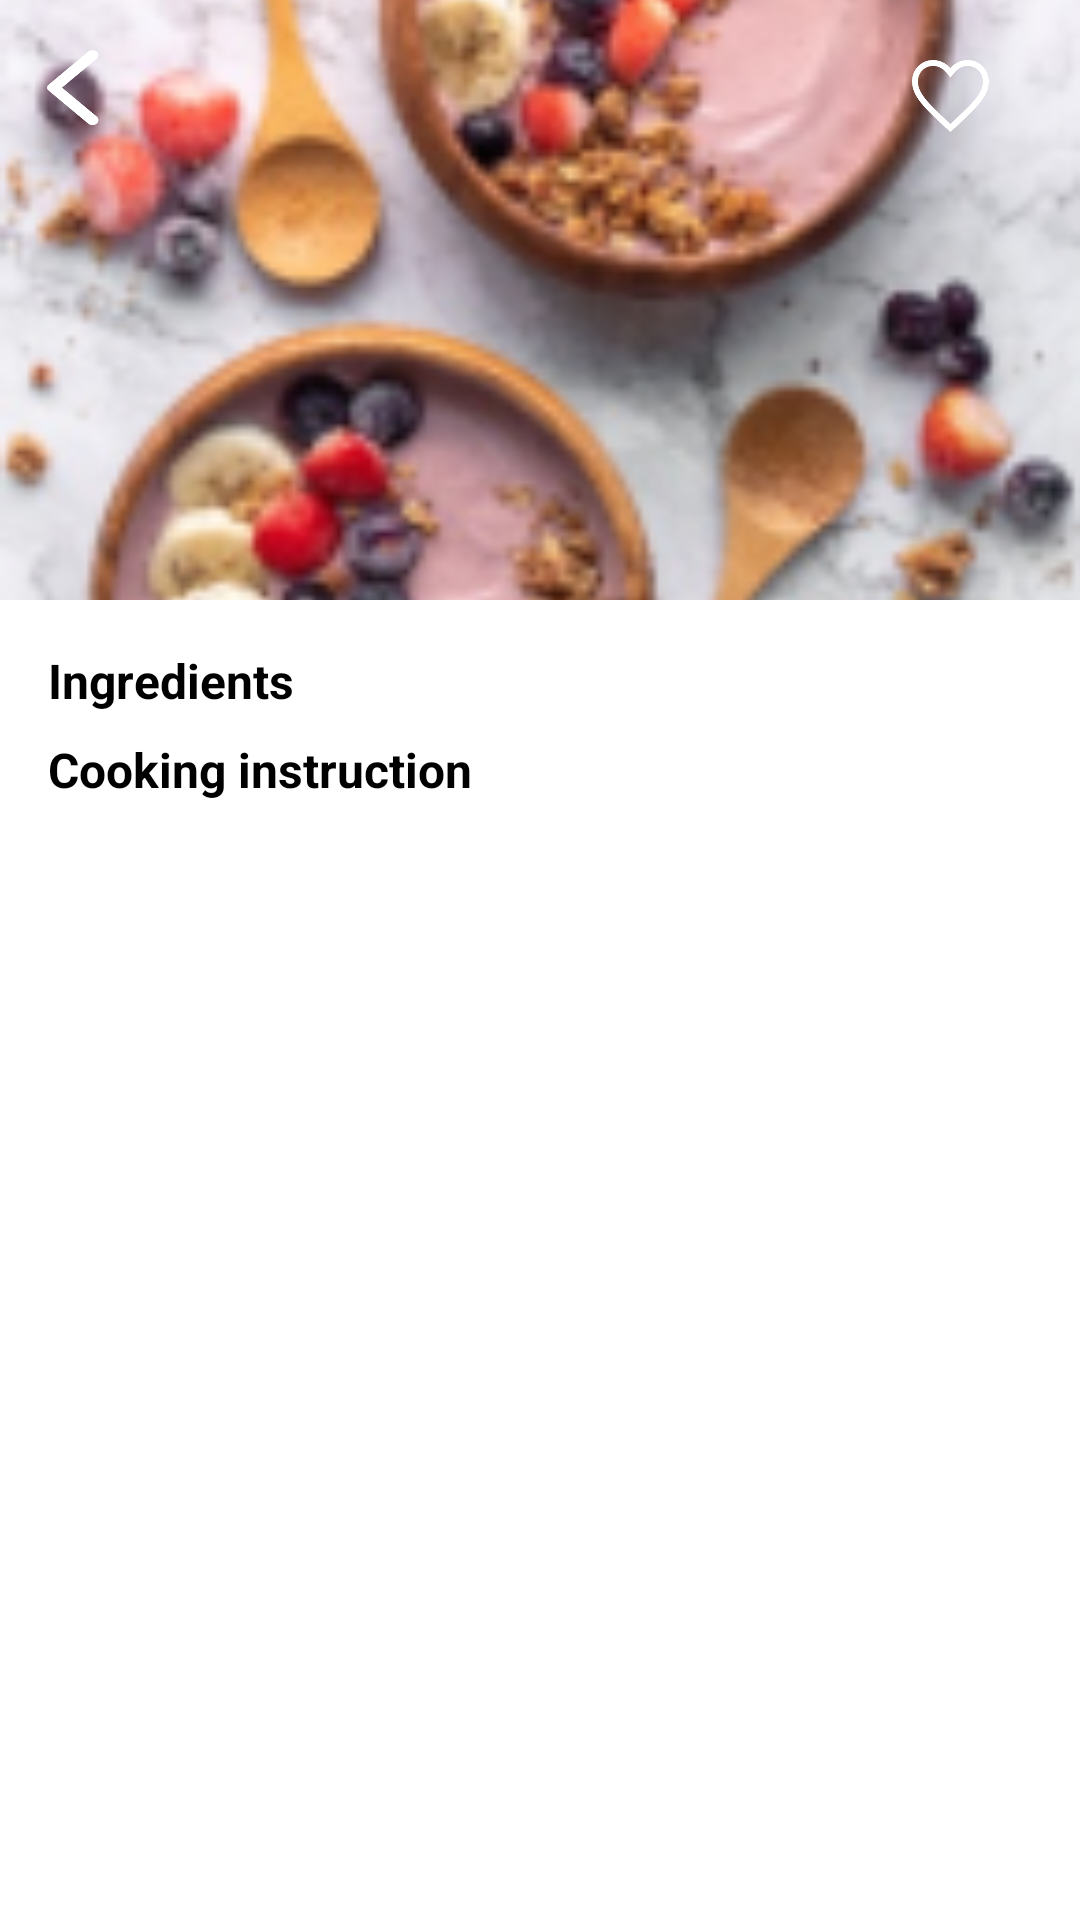

Named icons in this screenshot (1080 × 1920) and their centers, (x,y):
back: (74,87)
